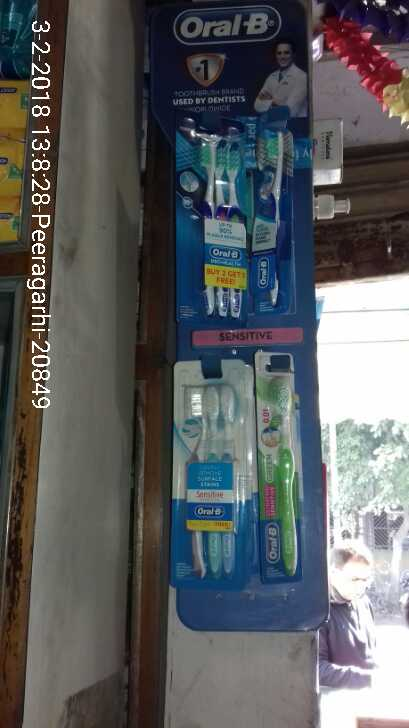oralb: (180, 380, 246, 575), (187, 132, 254, 315), (264, 379, 310, 577), (256, 133, 297, 304)
